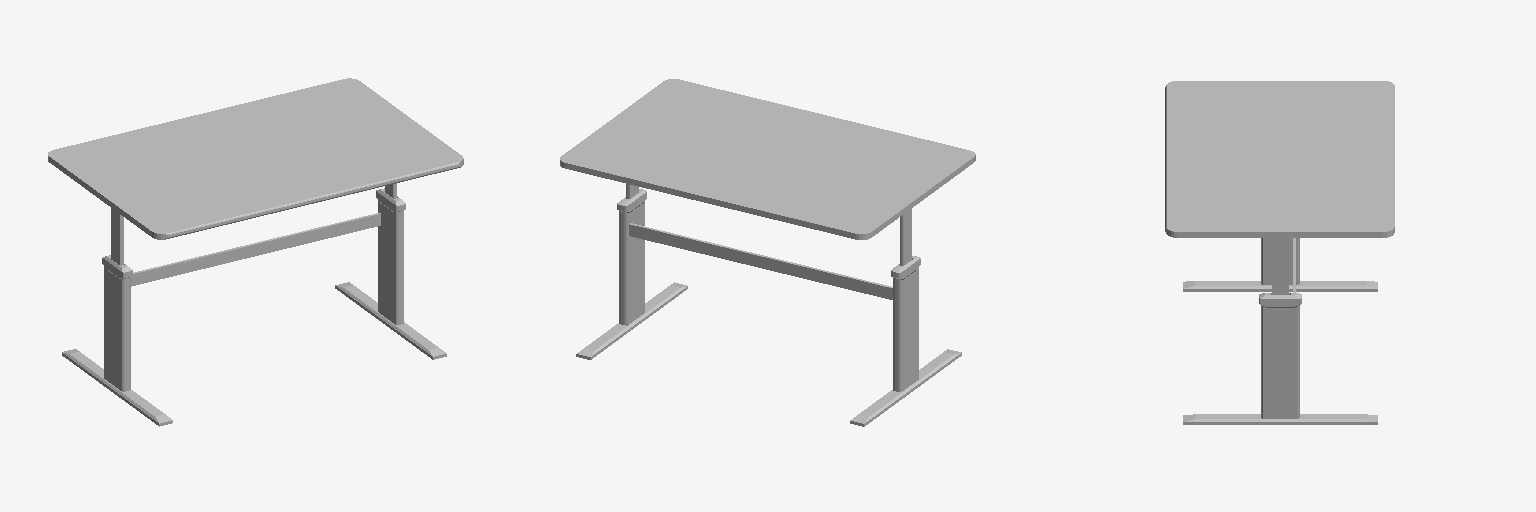
The model's file is table_01.obj.
3 renders of one model, left to right at view 1: azimuth 30°, elevation 25°; view 2: azimuth 150°, elevation 25°; view 3: azimuth 270°, elevation 25°, orthographic.
Parts seen in each view (by area): view 1: pCube1 group5 group4, group5 group4 polySurface4, group5 group4 polySurface6, group5 group4 pCube7, group5 group4 polySurface5; view 2: pCube1 group5 group4, group5 group4 polySurface4, group5 group4 polySurface6, group5 group4 pCube7, group5 group4 polySurface5; view 3: pCube1 group5 group4, group5 group4 polySurface6, group5 group4 polySurface4, group5 group4 polySurface7.
Part boxes in pixels (x1,y1,x2,y2): pCube1 group5 group4: (48, 78, 463, 239); group5 group4 polySurface4: (62, 255, 172, 426); group5 group4 polySurface6: (335, 188, 446, 359); group5 group4 pCube7: (131, 213, 380, 286); group5 group4 polySurface5: (111, 208, 123, 265); pCube1 group5 group4: (560, 79, 975, 239); group5 group4 polySurface4: (850, 256, 961, 426); group5 group4 polySurface6: (576, 189, 687, 359); group5 group4 pCube7: (629, 223, 892, 299); group5 group4 polySurface5: (900, 209, 911, 265); pCube1 group5 group4: (1165, 81, 1394, 237); group5 group4 polySurface6: (1183, 293, 1377, 424); group5 group4 polySurface4: (1183, 238, 1377, 291); group5 group4 polySurface7: (1272, 238, 1288, 294).
Bounding box in the file's own units: 1.1 × 0.675 × 0.7033.